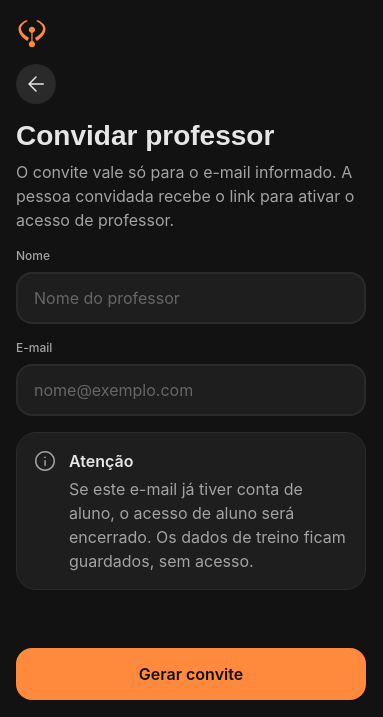
Convidar professor (regras 87 e 92) › outro erro do servidor vira toast
The width and height of the screenshot is (383, 717).
In the field labelled "Nome": (191, 298) [34,274,348,322], type "Fernanda Lopes"
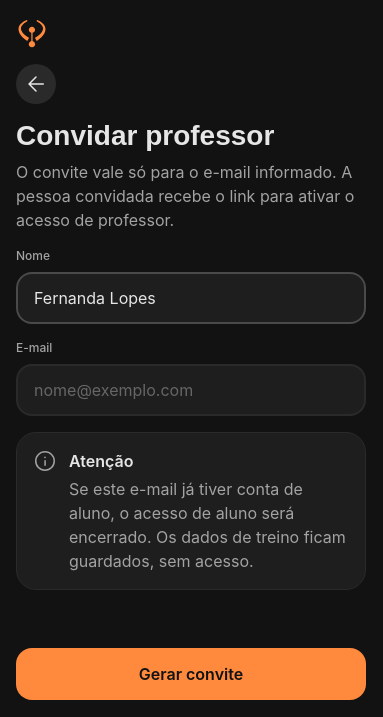
In the field labelled "E-mail": (191, 390) [34,366,348,414], type "fernanda@exemplo.com"
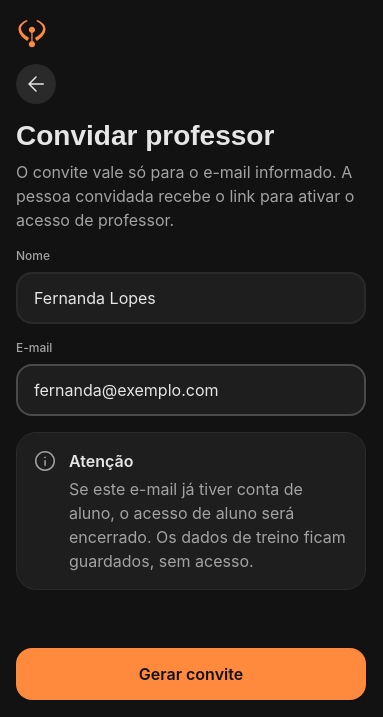
Click the button "Gerar convite": (191, 674) [16,648,366,700]
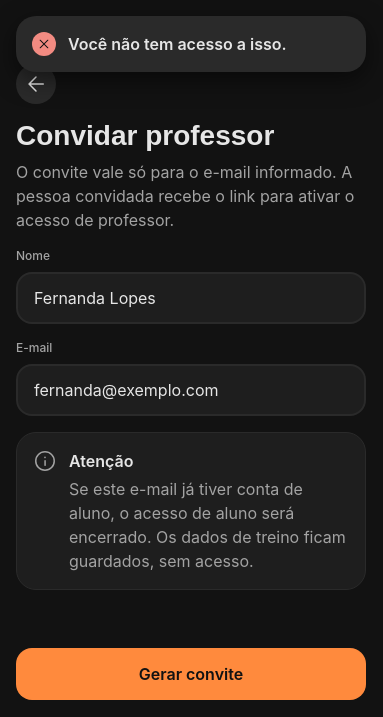
Expected: the text "Você não tem acesso a isso." is shown, [68,34,287,54]
